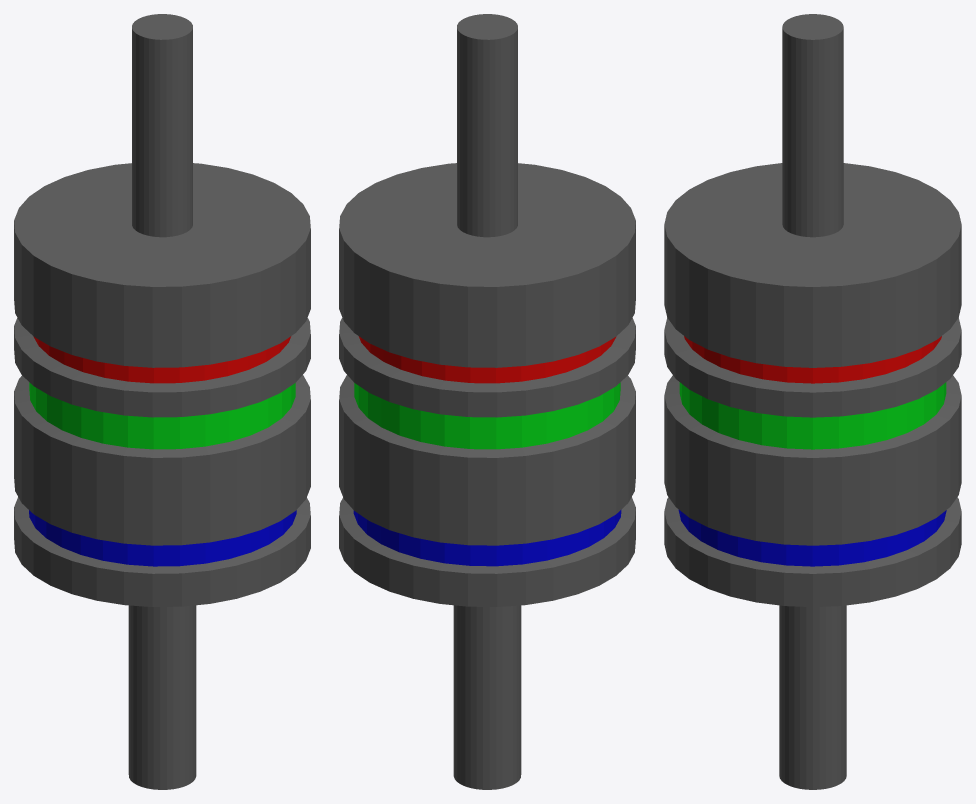
The model's file is fuse.fbx.
3 views of the same model, side by side, from view 1: azimuth 30°, elevation 25°; view 2: azimuth 150°, elevation 25°; view 3: azimuth 270°, elevation 25° (orthographic).
Parts seen in each view (by area): view 1: Cylinder; view 2: Cylinder; view 3: Cylinder.
Boxes of the visible parts, box(x1,y1,x2,y2) form: Cylinder: box(14, 14, 310, 789); Cylinder: box(339, 14, 635, 789); Cylinder: box(664, 14, 961, 789).
Size of the model in its own units: 83.03 by 231 by 83.03.
